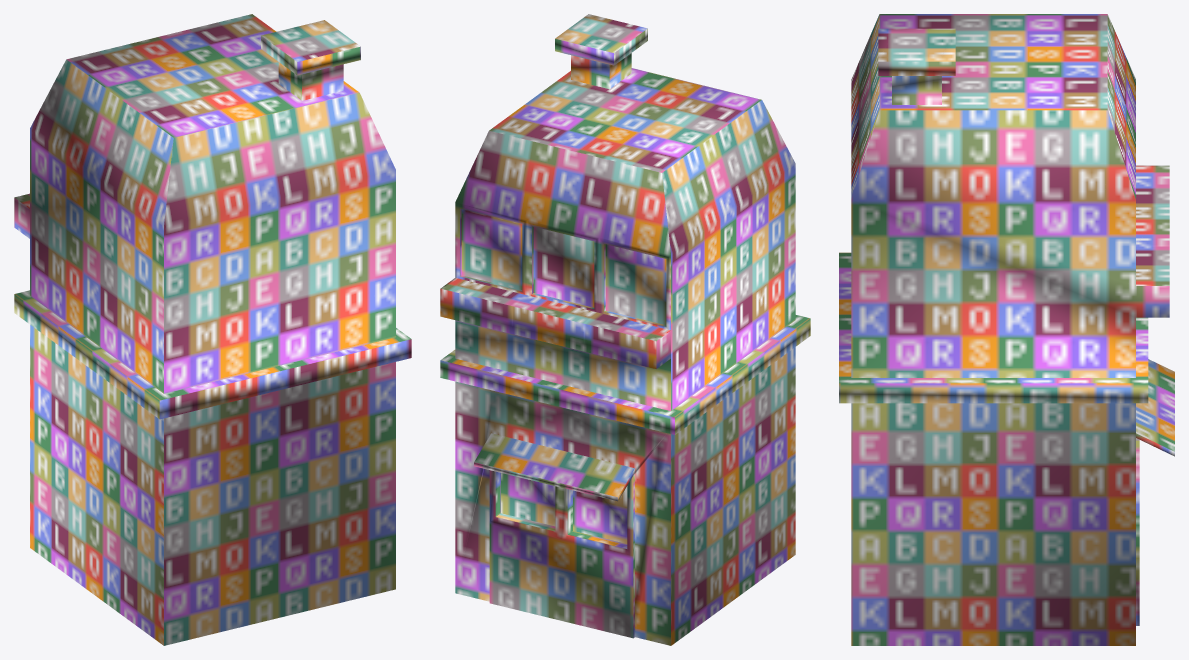
File: building_15.obj
3 renders of one model, left to right at view 1: azimuth 30°, elevation 25°; view 2: azimuth 150°, elevation 25°; view 3: azimuth 270°, elevation 25°, orthographic. The views are drawn at different scales.
Visible parts, largest first — view 1: Cube3_copy15; view 2: Cube3_copy15; view 3: Cube3_copy15.
Part boxes in pixels (bbox=[...]): Cube3_copy15: bbox=[14, 14, 411, 645]; Cube3_copy15: bbox=[440, 14, 810, 645]; Cube3_copy15: bbox=[839, 14, 1174, 645].
Bounding box in the file's own units: 298 × 608 × 323.
